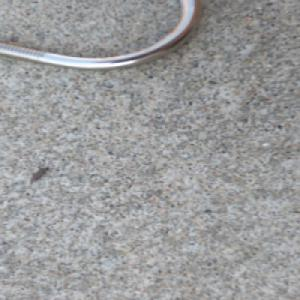ClampPart: (0, 0, 205, 73)
